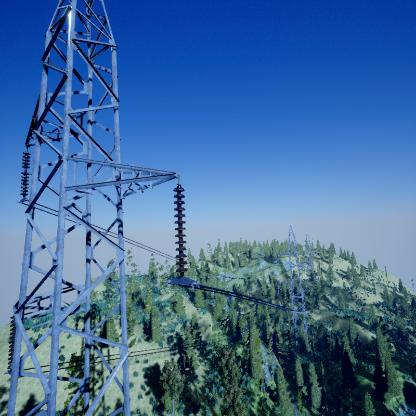insulator: (171, 184, 189, 279), (20, 152, 32, 197)
